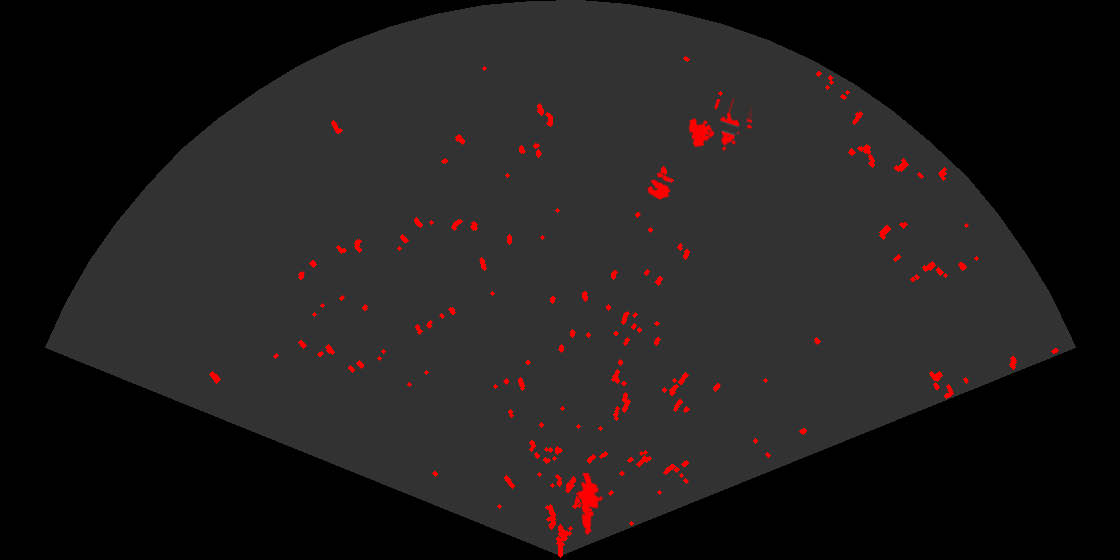ball: (645, 171, 672, 201)
cage: (687, 99, 752, 152)
frogman: (576, 473, 605, 536)
